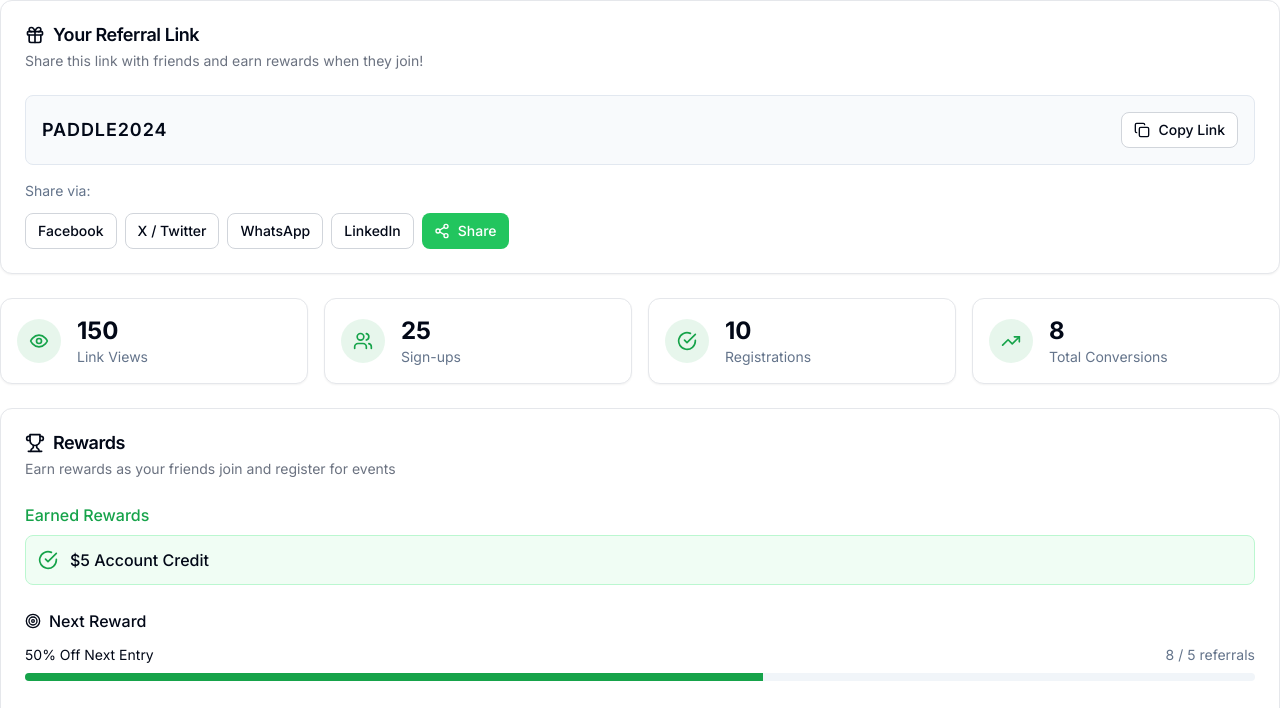
ReferralDashboard › Copy Button › changes button text to "Copied!" after copying
The image size is (1280, 708).
Click the button "Copy Link" at (1180, 130), box [1121,112,1238,148]
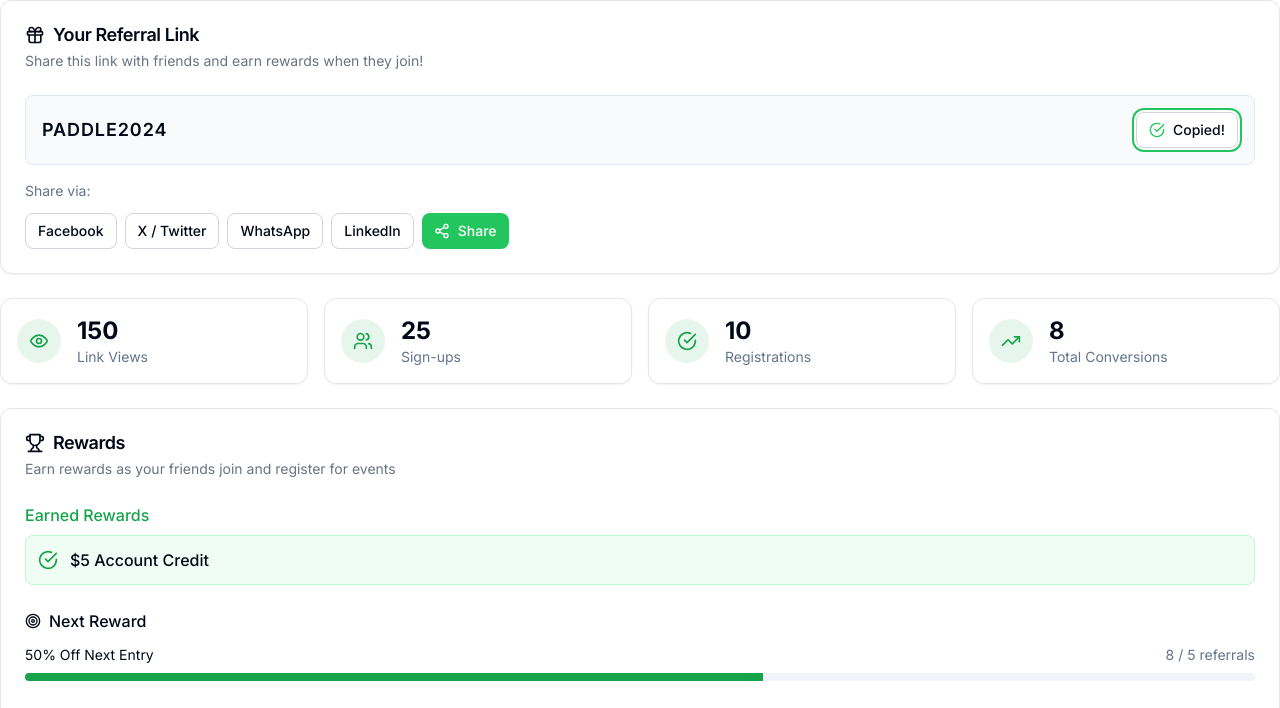
Result: the text "Copied!" is shown at [1173,120,1225,140]
